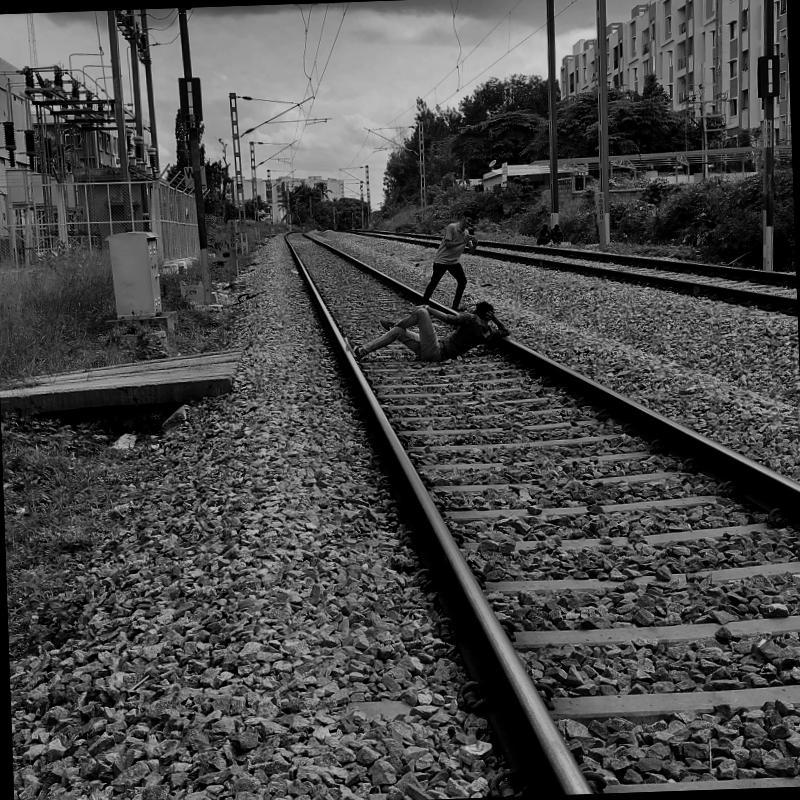sleeping: (343, 294, 528, 378)
